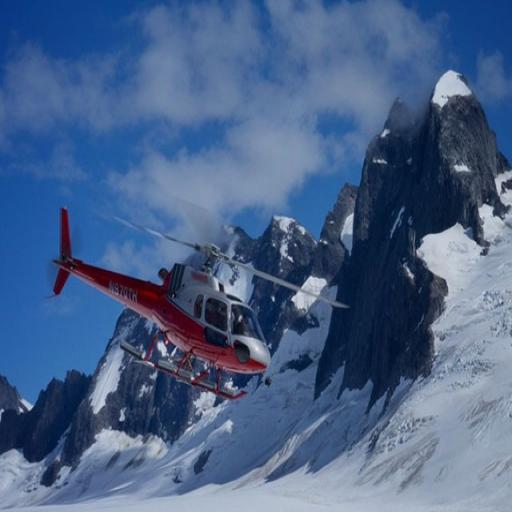helicopter: (56, 200, 352, 403)
